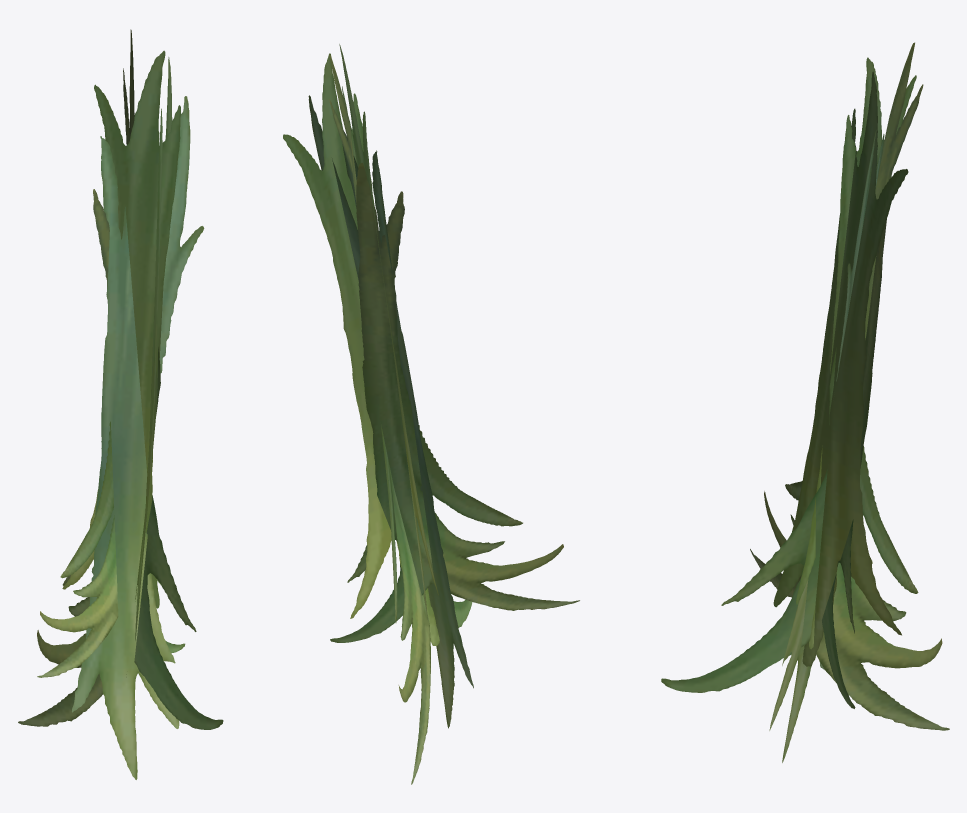
3 renders of one model, left to right at view 1: azimuth 30°, elevation 25°; view 2: azimuth 150°, elevation 25°; view 3: azimuth 270°, elevation 25°, orthographic. The views are drawn at different scales.
Parts seen in each view (by area): view 1: "Editable Poly"; view 2: "Editable Poly"; view 3: "Editable Poly".
Part boxes in pixels (<box>): "Editable Poly": <box>18,29,223,779</box>; "Editable Poly": <box>283,44,579,784</box>; "Editable Poly": <box>661,42,949,762</box>.
Size of the model in its own units: 0.2125 by 0.6222 by 0.2401.
